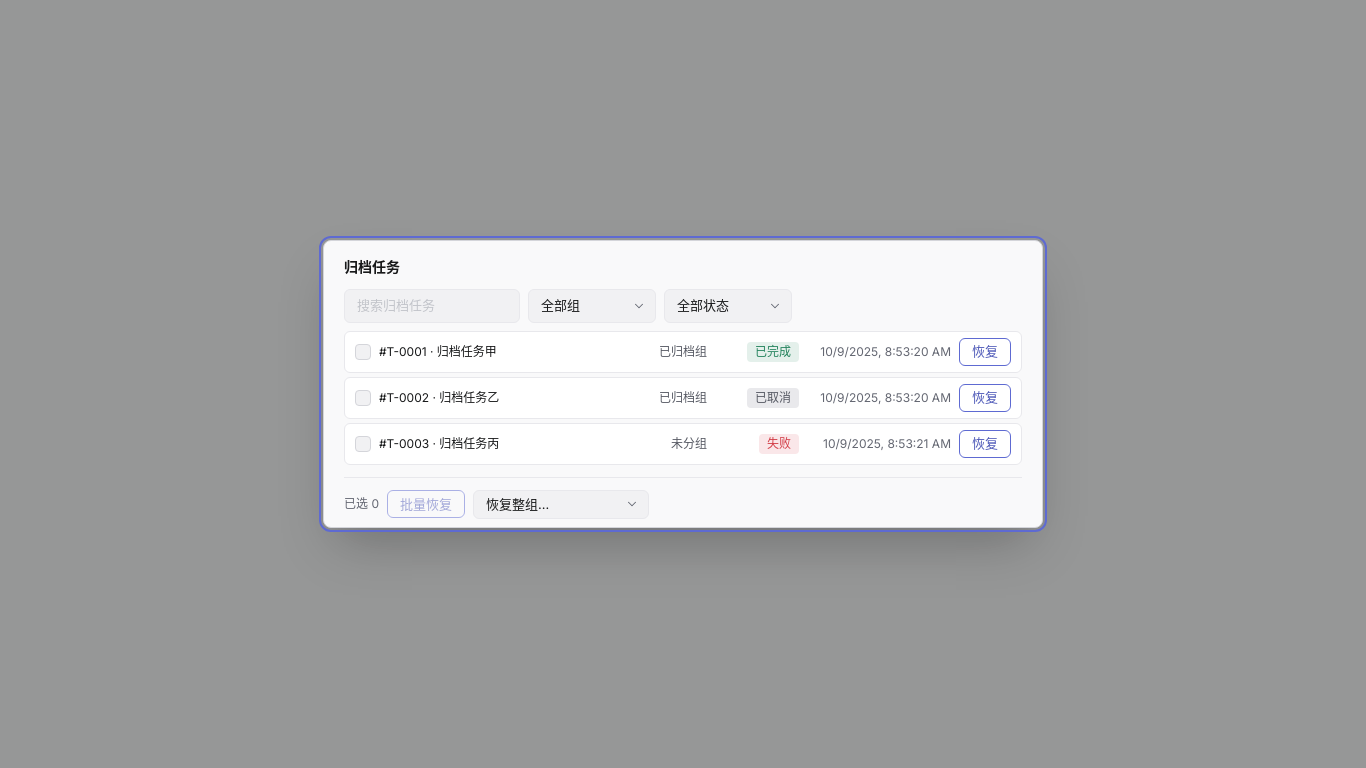
Test: ArchivePanel › 恢复整组 select：选已归档组 → 一次 taskGroup.unarchive（组+任务一体），面板重拉且看板任务刷新
The image size is (1366, 768).
Expected: the text "#T-0001 · 归档任务甲" is shown, [379, 344, 497, 358]
Select "已归档组（2 条）" in the dropdown named "恢复整组": (561, 504) [473, 490, 649, 519]
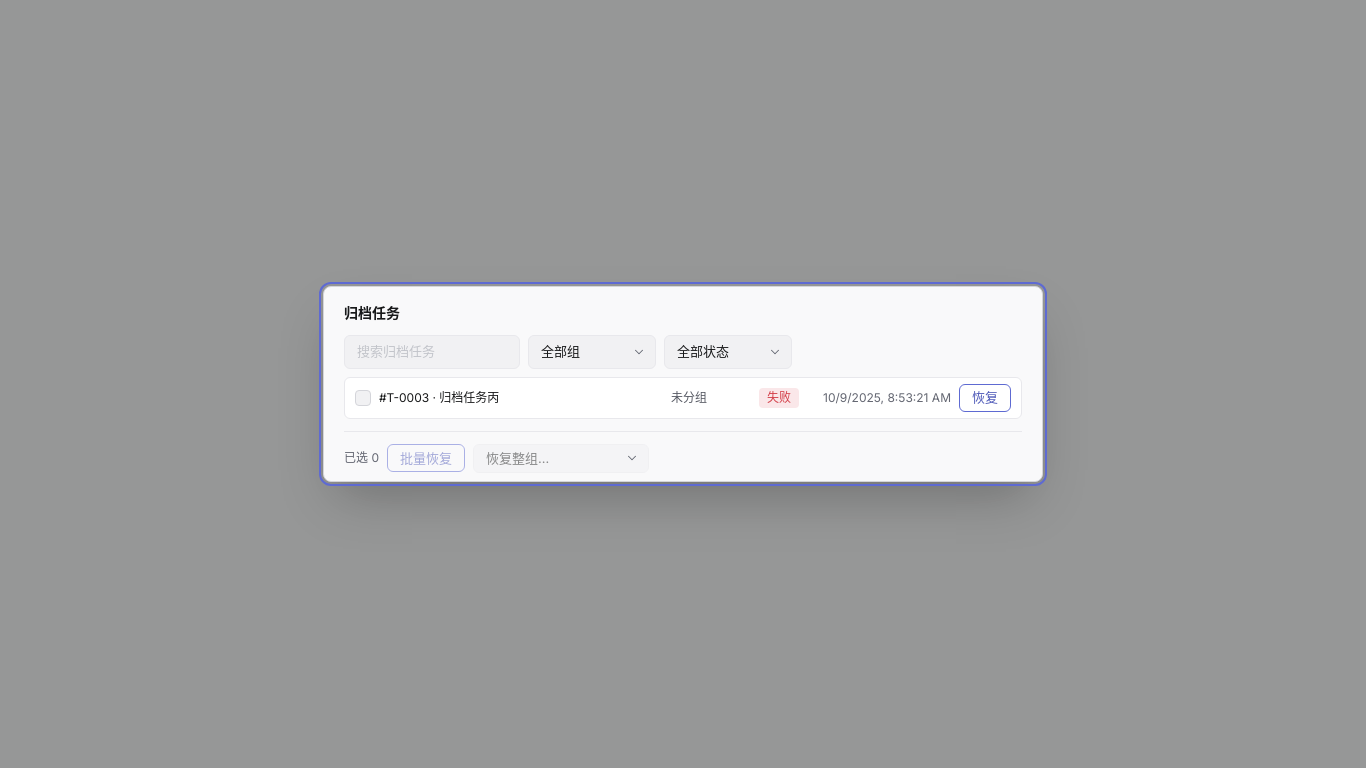
Expected: the text "#T-0003 · 归档任务丙" is shown, [379, 390, 499, 404]
Result: the text "归档任务甲" is gone
Result: the text "归档任务乙" is gone
